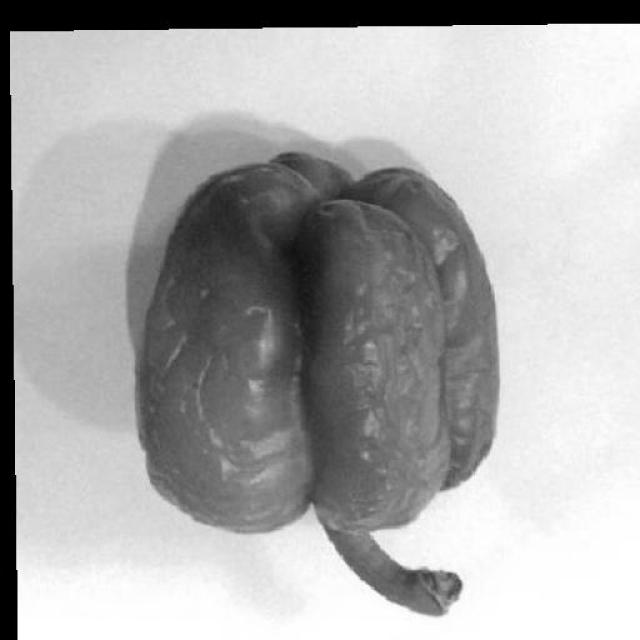Stale_Capsicum: (157, 136, 527, 601)
